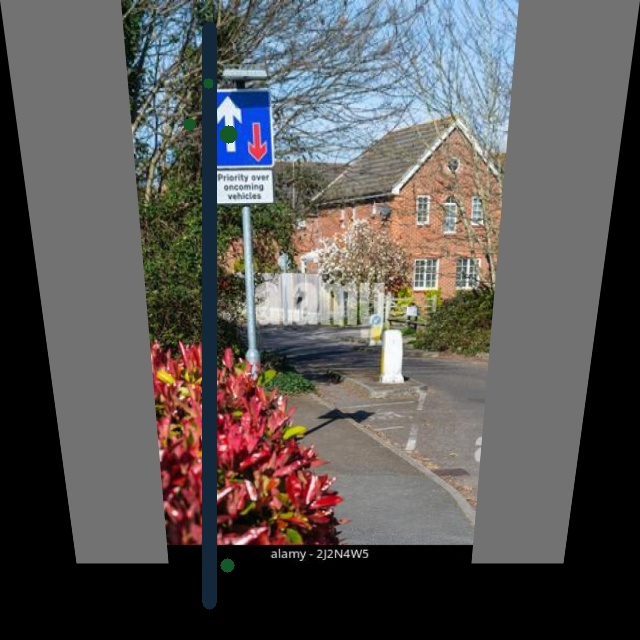Priority_for_Oncoming_Traffic: (208, 89, 274, 167)
